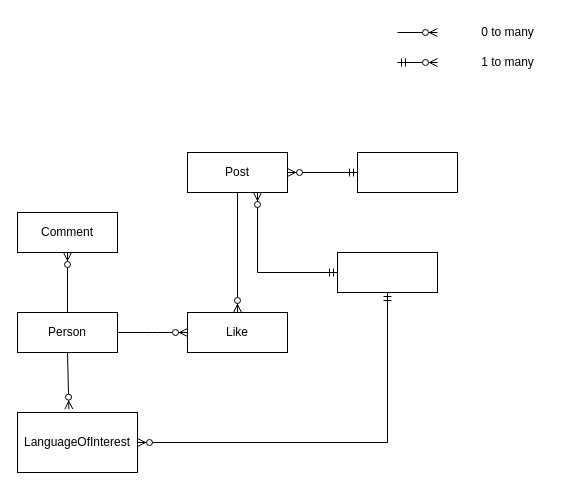
Image size: 565x490. Some labels were removed from this diagram. Each missing label, with the box of its shape:
Language: (336, 252, 438, 292)
PartOfSpeech: (356, 152, 458, 192)
